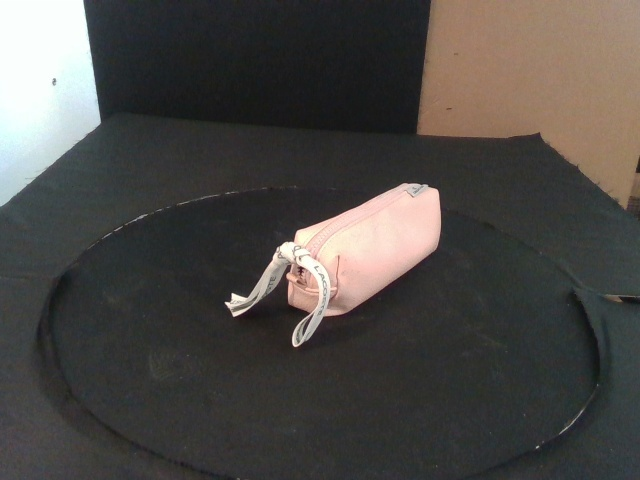pencil_case: (288, 182, 439, 316)
